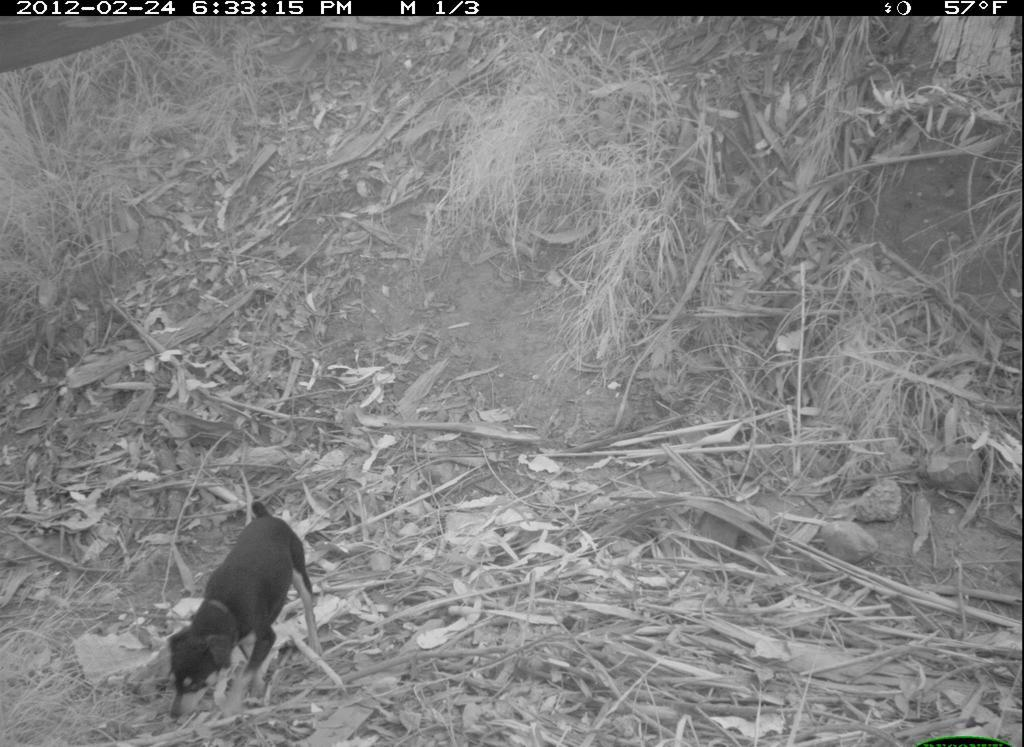dog: (145, 482, 338, 725)
